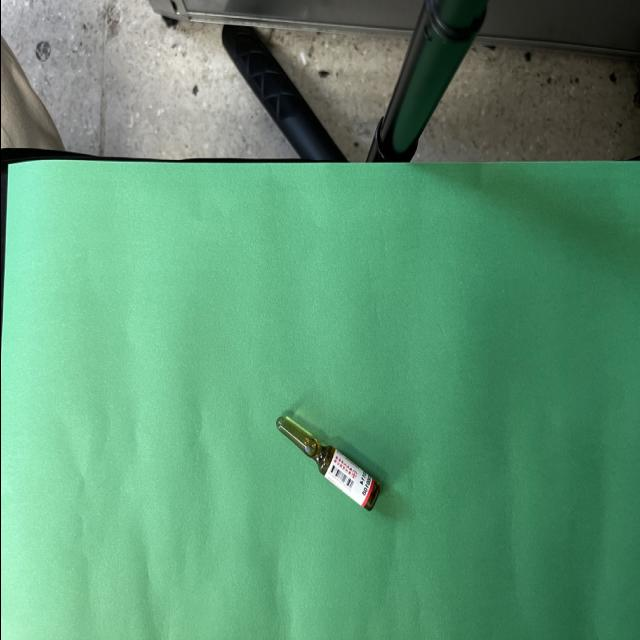Ampoules: (275, 417, 380, 511)
